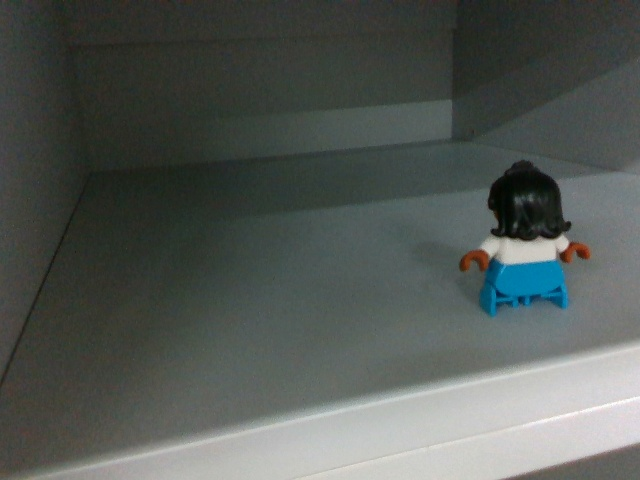people: (462, 159, 596, 320)
